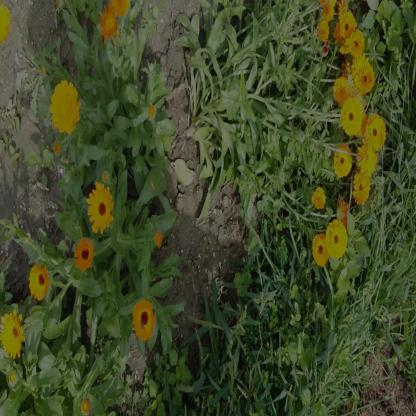marigold: (52, 82, 78, 129), (130, 298, 156, 342), (89, 184, 112, 230), (2, 312, 24, 357), (29, 263, 50, 304), (328, 220, 348, 260), (344, 96, 363, 134), (353, 58, 373, 93), (352, 170, 370, 208), (314, 231, 332, 268), (358, 142, 378, 174), (74, 238, 93, 268), (367, 117, 385, 147), (334, 143, 350, 175), (348, 32, 364, 58), (338, 12, 354, 36), (312, 185, 326, 211), (334, 77, 348, 102), (319, 21, 329, 42)
